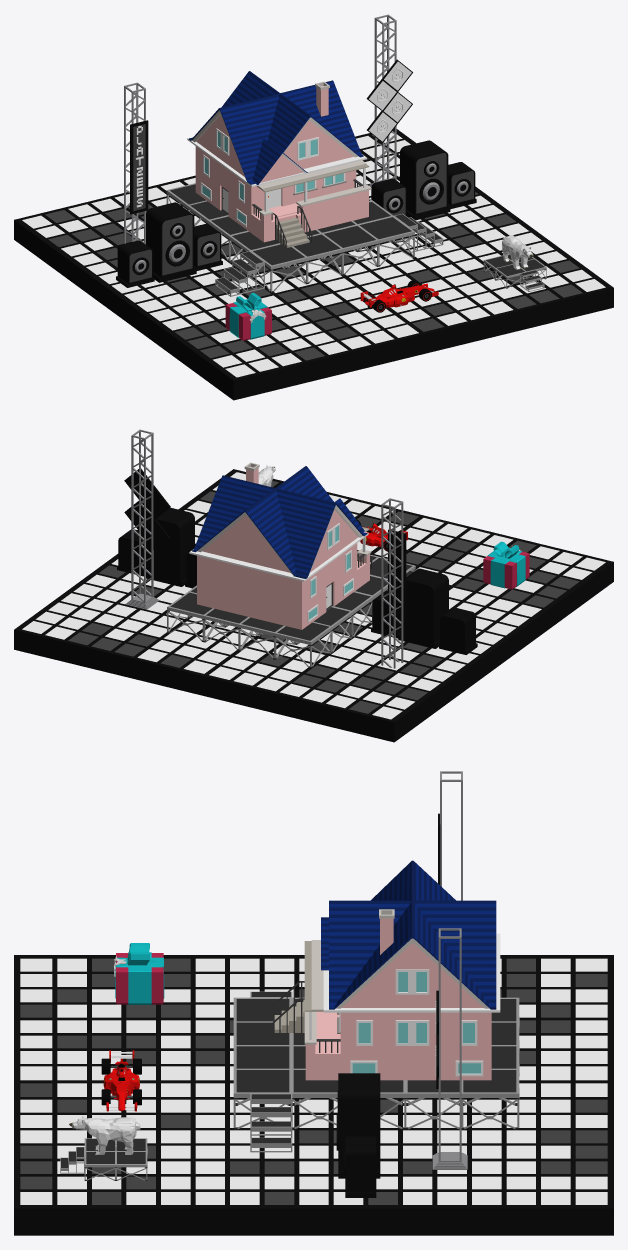
The picture shows the model from 3 angles, top to bottom: view 1: azimuth 30°, elevation 25°; view 2: azimuth 150°, elevation 25°; view 3: azimuth 270°, elevation 25°; orthographic projection. The views are drawn at different scales.
Parts seen in each view (by area): view 1: Cube.008, Cube.313, OBJRANDOM_GIANT_PRESENT, VEHICLES_FORMULA_1, ANIMAL_OSO_POLAR; view 2: Cube.008, Cube.313, OBJRANDOM_GIANT_PRESENT, VEHICLES_FORMULA_1; view 3: Cube.008, Cube.313, OBJRANDOM_GIANT_PRESENT, VEHICLES_FORMULA_1, ANIMAL_OSO_POLAR.
Part boxes in pixels (x1,y1,x2,y2): Cube.008: (14,14,613,400); Cube.313: (187,71,371,248); OBJRANDOM_GIANT_PRESENT: (225,292,271,340); VEHICLES_FORMULA_1: (360,280,438,312); ANIMAL_OSO_POLAR: (502,235,533,270); Cube.008: (14,429,613,742); Cube.313: (189,462,372,629); OBJRANDOM_GIANT_PRESENT: (483,541,529,589); VEHICLES_FORMULA_1: (356,519,407,551); Cube.008: (14,771,613,1235); Cube.313: (272,860,500,1080); OBJRANDOM_GIANT_PRESENT: (113,943,164,1004); VEHICLES_FORMULA_1: (101,1050,141,1111); ANIMAL_OSO_POLAR: (69,1115,140,1154).
Bounding box in the file's own units: 4000 × 1950 × 4000.
Materials: 42 (1 with a texture image).
